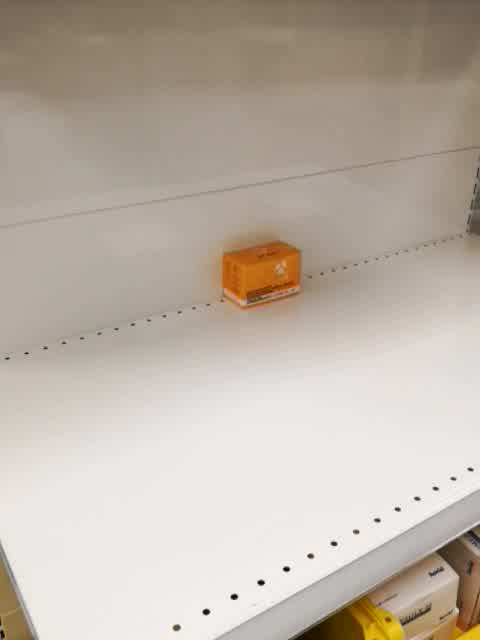jasminetea: (221, 239, 304, 311)
